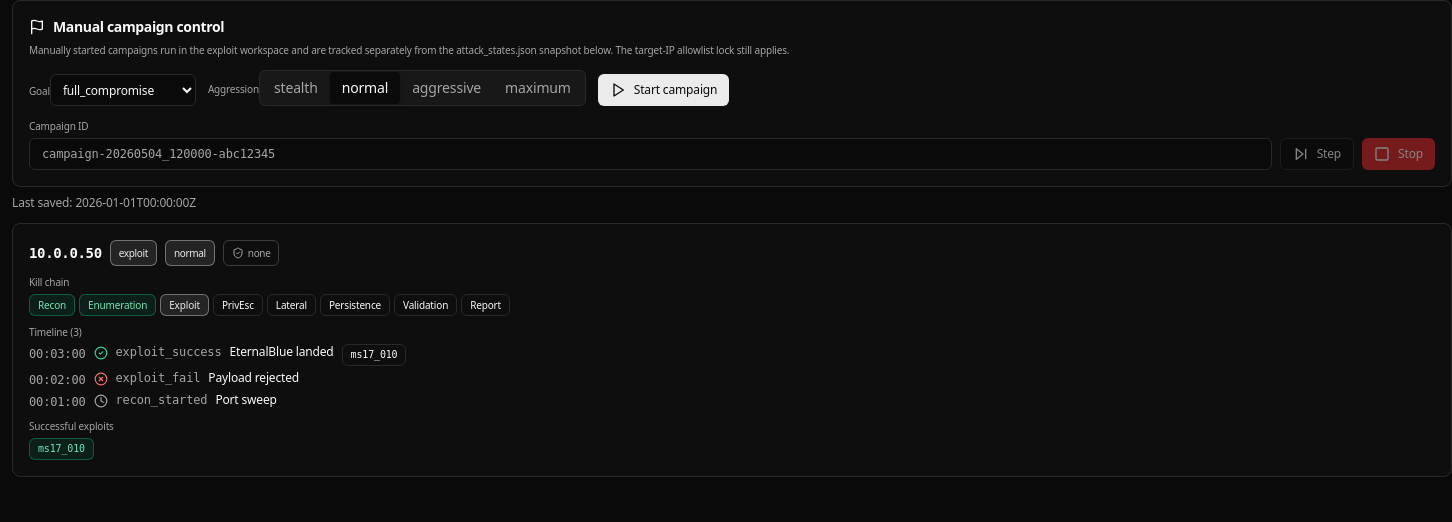
Campaign manual controls › surfaces 403 policy denials with a plain message
In the field labelled "Campaign ID": (650, 154) [29,138,1272,170], type "campaign-abc"
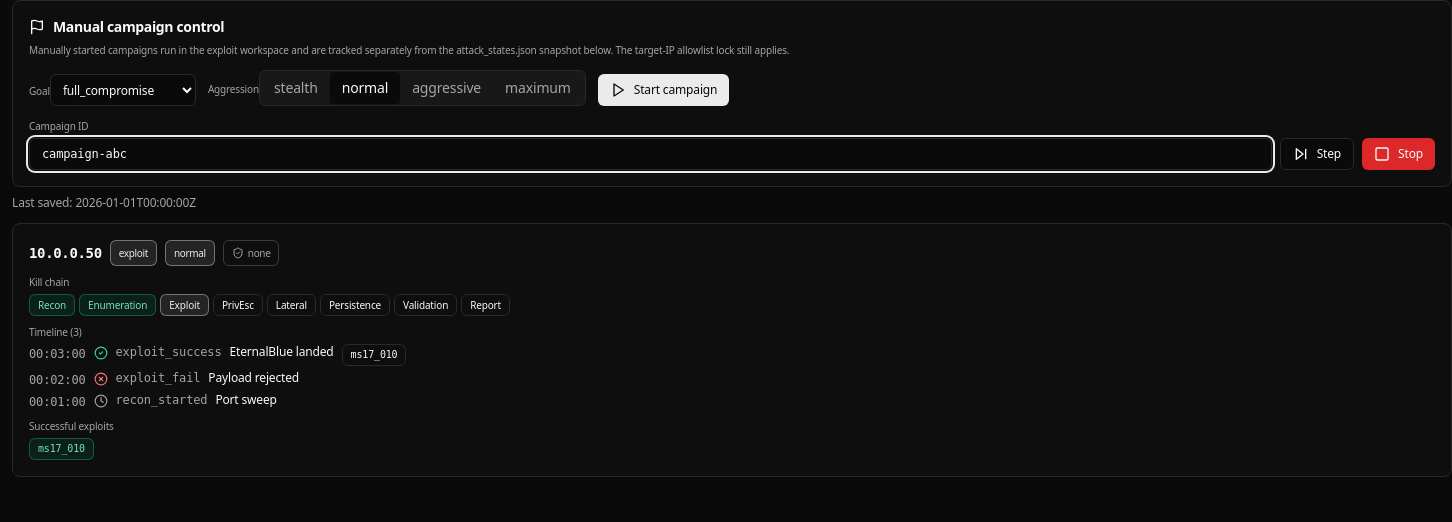
Click the button "Stop": (1399, 154) [1362,138,1435,170]
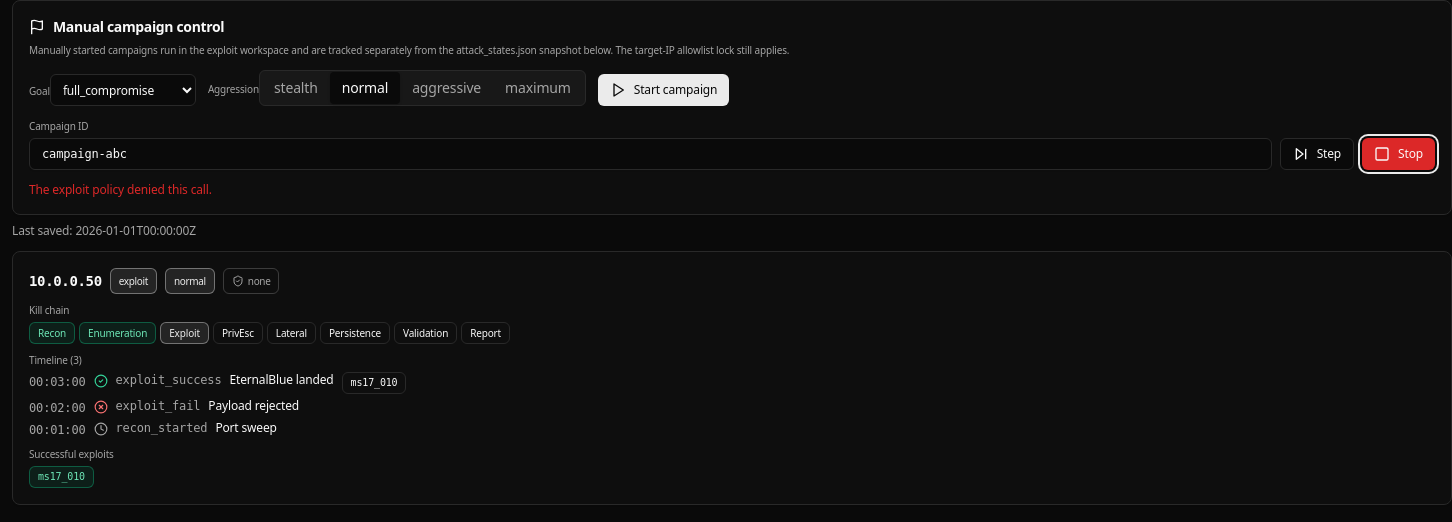
Check: the message reads "The exploit policy denied this call.", box [29,181,212,198]
